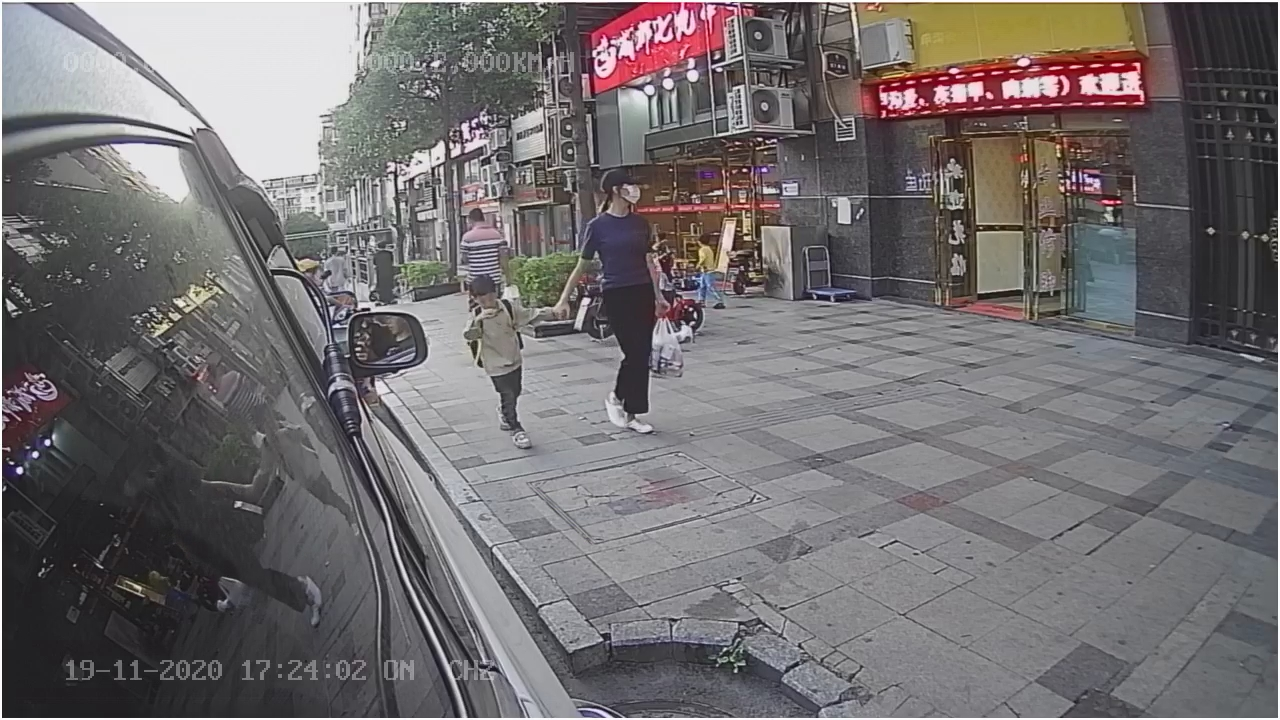person: (567, 165, 665, 438), (462, 276, 562, 455)
